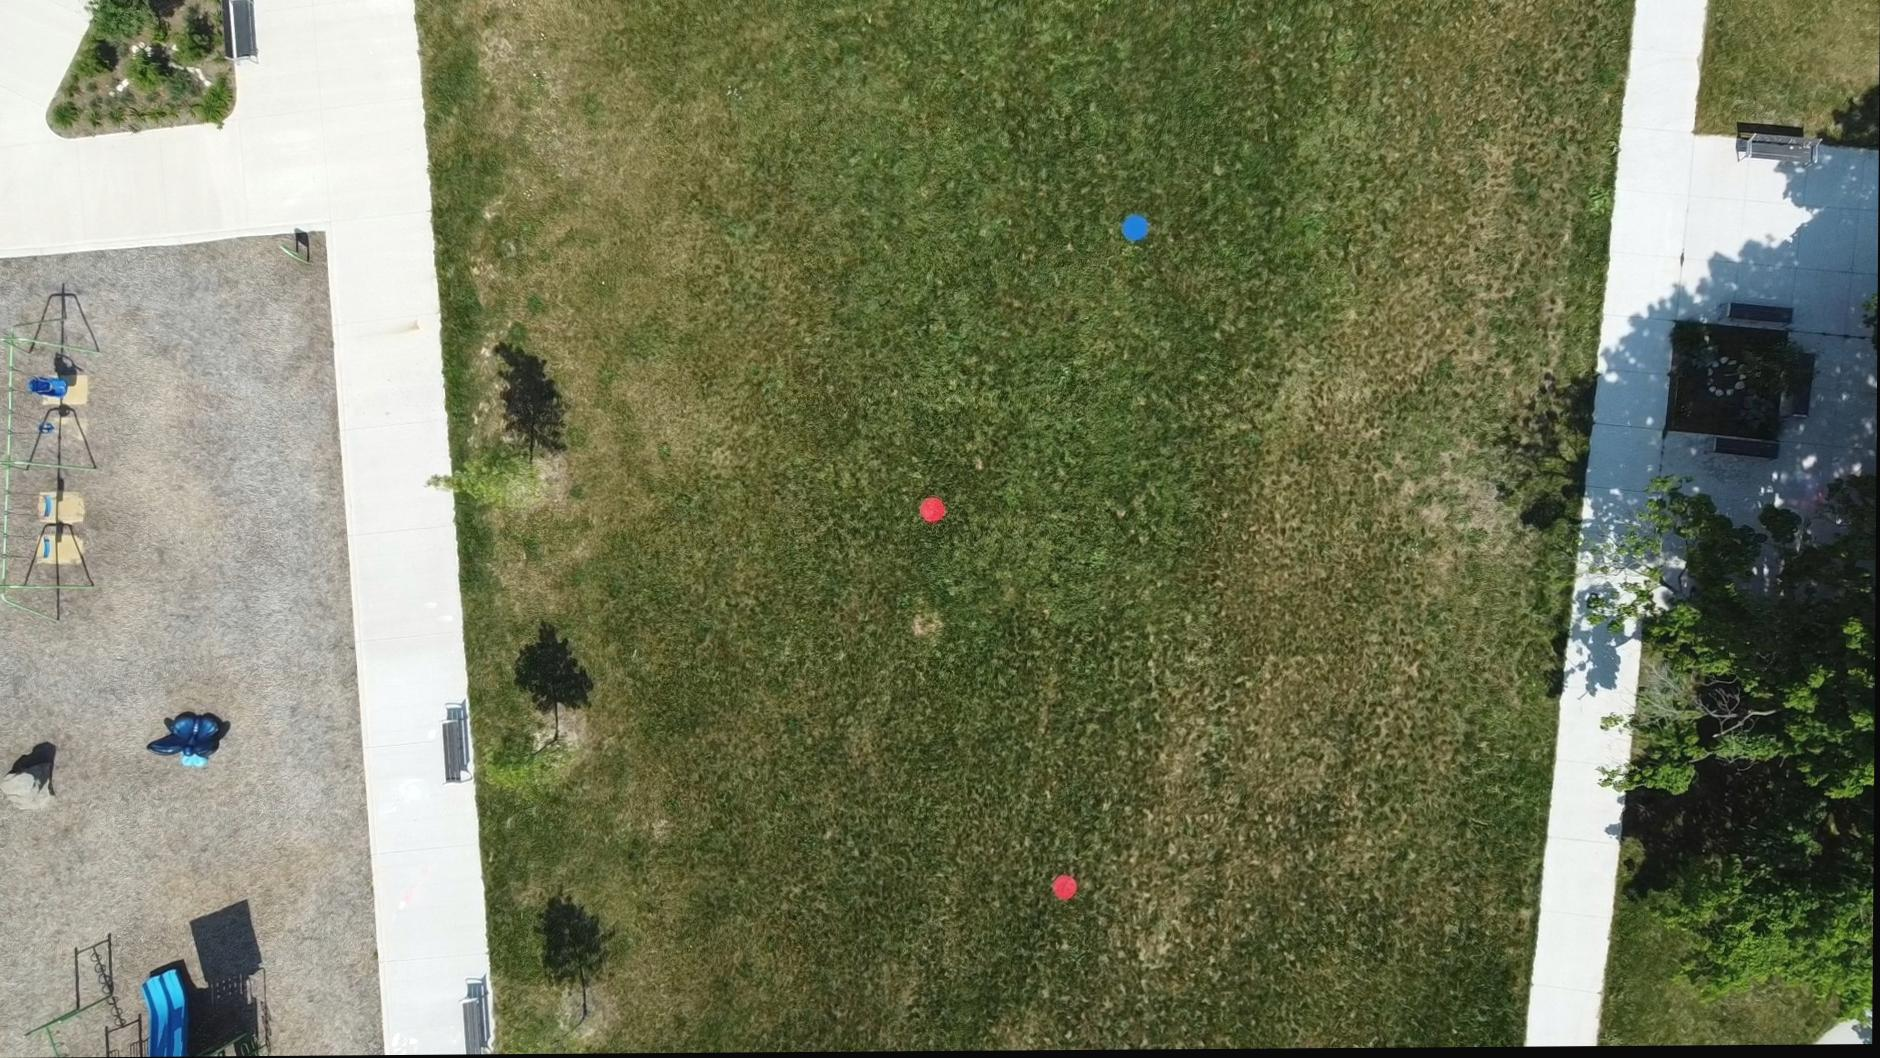Blue: (1121, 214, 1150, 244)
Red: (919, 497, 949, 526), (1052, 873, 1081, 903)
